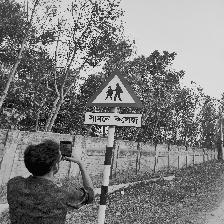College-in-front: (73, 62, 146, 133)
